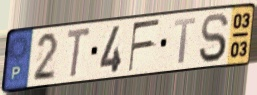2: (32, 31, 60, 83)
4: (98, 23, 125, 76)
F: (127, 17, 162, 74)
S: (197, 11, 231, 64)
T: (65, 25, 93, 81), (173, 16, 198, 66)
